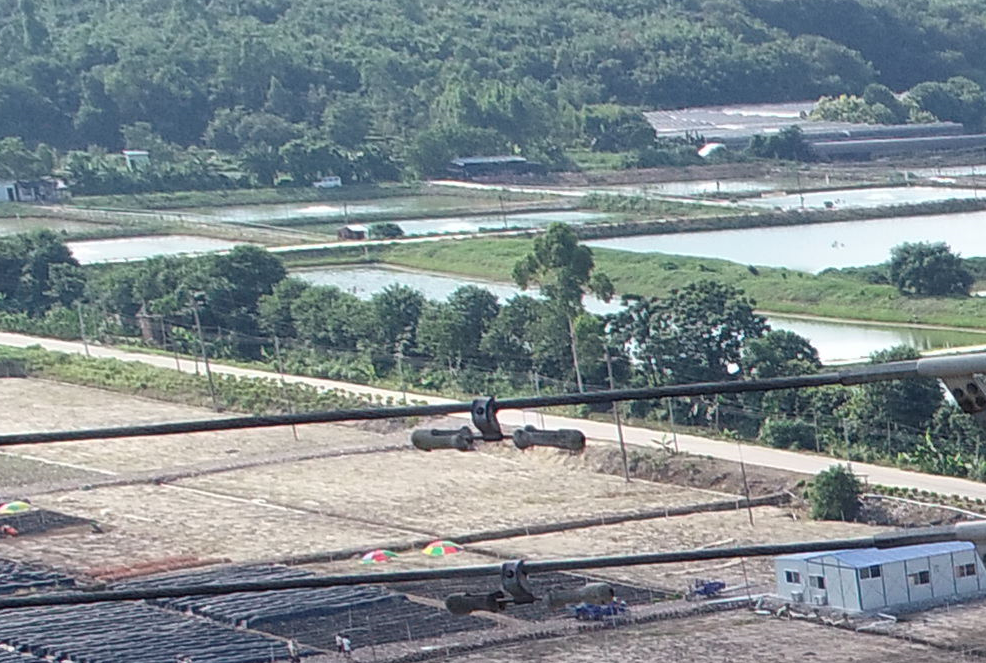damper: (407, 391, 585, 453)
damper_defect: (440, 558, 547, 613)
